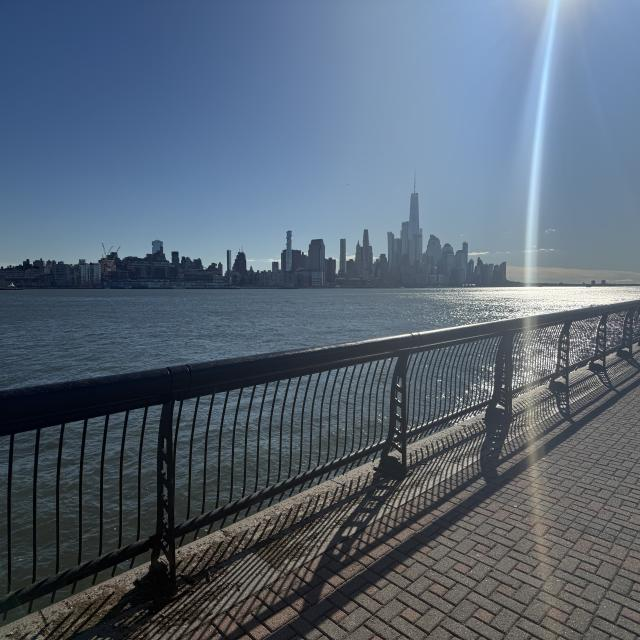WTC: (409, 168, 420, 239)
